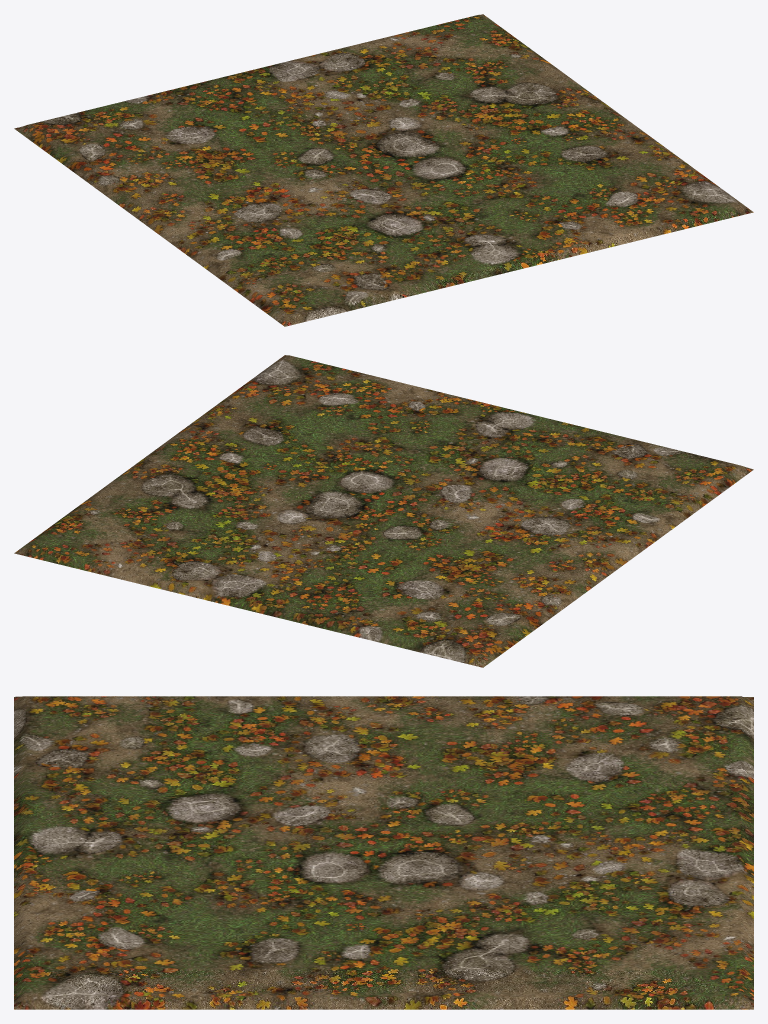
File: Parte_exterior_a_las_habitaciones.fbx
3 renders of one model, top to bottom at view 1: azimuth 30°, elevation 25°; view 2: azimuth 150°, elevation 25°; view 3: azimuth 270°, elevation 25°, orthographic. The views are drawn at different scales.
Visible parts, largest first — view 1: pPlane35; view 2: pPlane35; view 3: pPlane35.
Boxes of the visible parts, x1,y1,x2,y2 form: pPlane35: [14, 14, 753, 326]; pPlane35: [14, 355, 753, 667]; pPlane35: [14, 696, 753, 1009].
Size of the model in its own units: 227 by 3.11 by 227.
